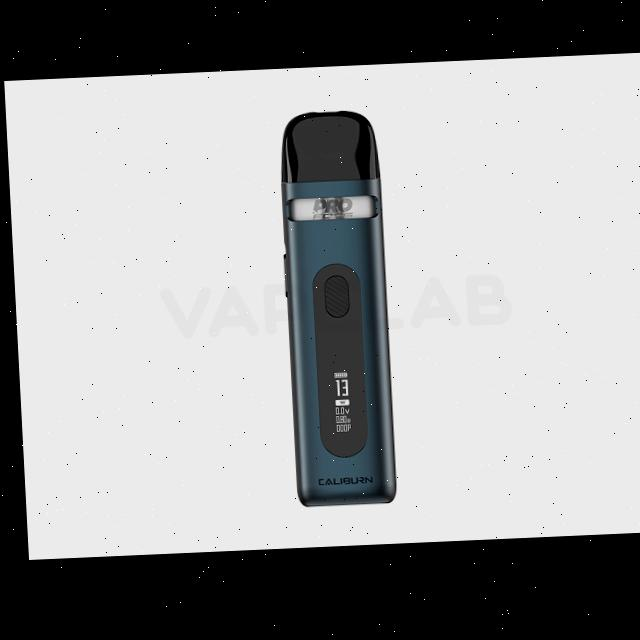vape: (276, 110, 392, 510)
